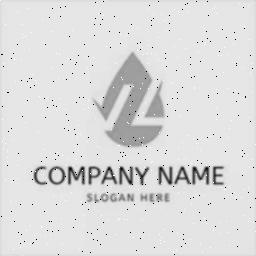l: (128, 76, 172, 130)
